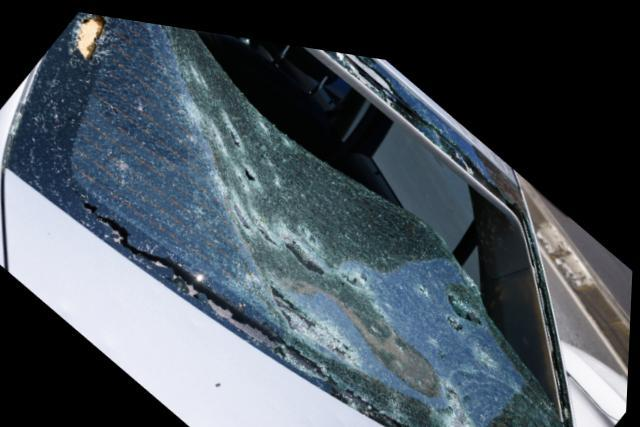glass shatter: (5, 10, 578, 427)
